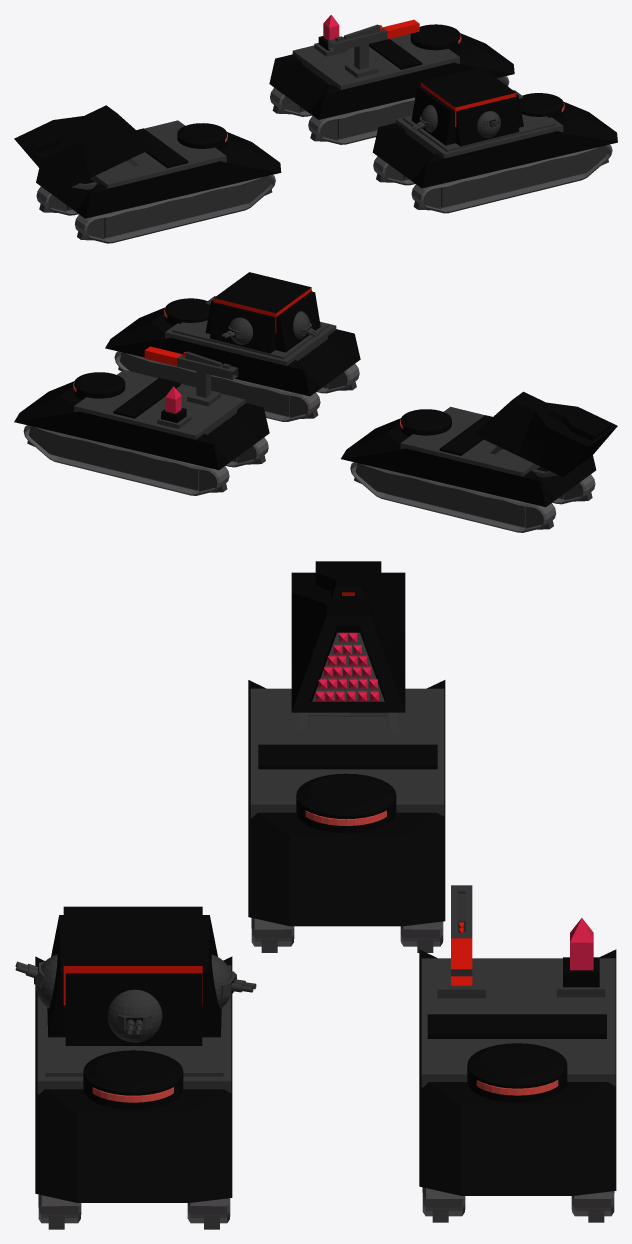
The model's file is vozidla.gltf.
The picture shows the model from 3 angles, top to bottom: view 1: azimuth 30°, elevation 25°; view 2: azimuth 150°, elevation 25°; view 3: azimuth 270°, elevation 25°; orthographic projection. The views are drawn at different scales.
Parts seen in each view (by area): view 1: Cube.248, Cube.114, Cube.154, Cube.178, Cube.121, Cube.249, Cube.153, Cube.147, Cube.222, Cylinder.053, Cylinder.006, Cube.215 (+22 smaller); view 2: Cube.114, Cube.154, Cube.248, Cube.178, Cube.121, Cube.135, Cube.141, Cube.147, Cube.222, Cube.259, Cykinder.050, Cylinder.055 (+19 smaller); view 3: Cube.154, Cube.114, Cube.248, Cube.147, Cube.121, Cube.178, Cube.222, Cube.221, Cube.211, Cylinder.008, Cylinder.042, Cylinder.046 (+15 smaller).
Boxes of the visible parts, x1,y1,x2,y2 form: Cube.248: (372,101,617,188); Cube.114: (269,33,514,119); Cube.154: (36,132,281,218); Cube.178: (14,105,154,188); Cube.121: (292,34,459,89); Cube.249: (441,151,587,207); Cube.153: (104,181,250,237); Cube.147: (90,120,226,188); Cube.222: (420,67,516,126); Cylinder.053: (75,175,275,243); Cylinder.006: (411,144,612,213); Cube.215: (455,97,519,146); Cube.114: (14,381,269,469); Cube.154: (341,418,596,506); Cube.248: (105,307,360,396); Cube.178: (474,391,617,476); Cube.121: (74,370,245,439); Cube.135: (49,433,199,490); Cube.141: (376,469,525,527); Cube.147: (400,406,540,476); Cube.222: (213,272,311,333); Cube.259: (140,359,289,416); Cykinder.050: (350,462,556,532); Cylinder.055: (23,425,229,495); Cube.154: (248,680,445,926); Cube.114: (419,949,616,1195); Cube.248: (35,956,232,1202); Cube.147: (250,688,444,817); Cube.121: (421,958,615,1087); Cube.178: (291,572,405,712); Cube.222: (63,906,202,1005); Cube.221: (65,973,202,1045); Cube.211: (258,744,437,769); Cylinder.008: (83,1050,183,1109); Cylinder.042: (467,1043,567,1102); Cylinder.046: (296,773,396,833).
Bounding box in the file's own units: 30.73 × 6.24 × 15.34.
